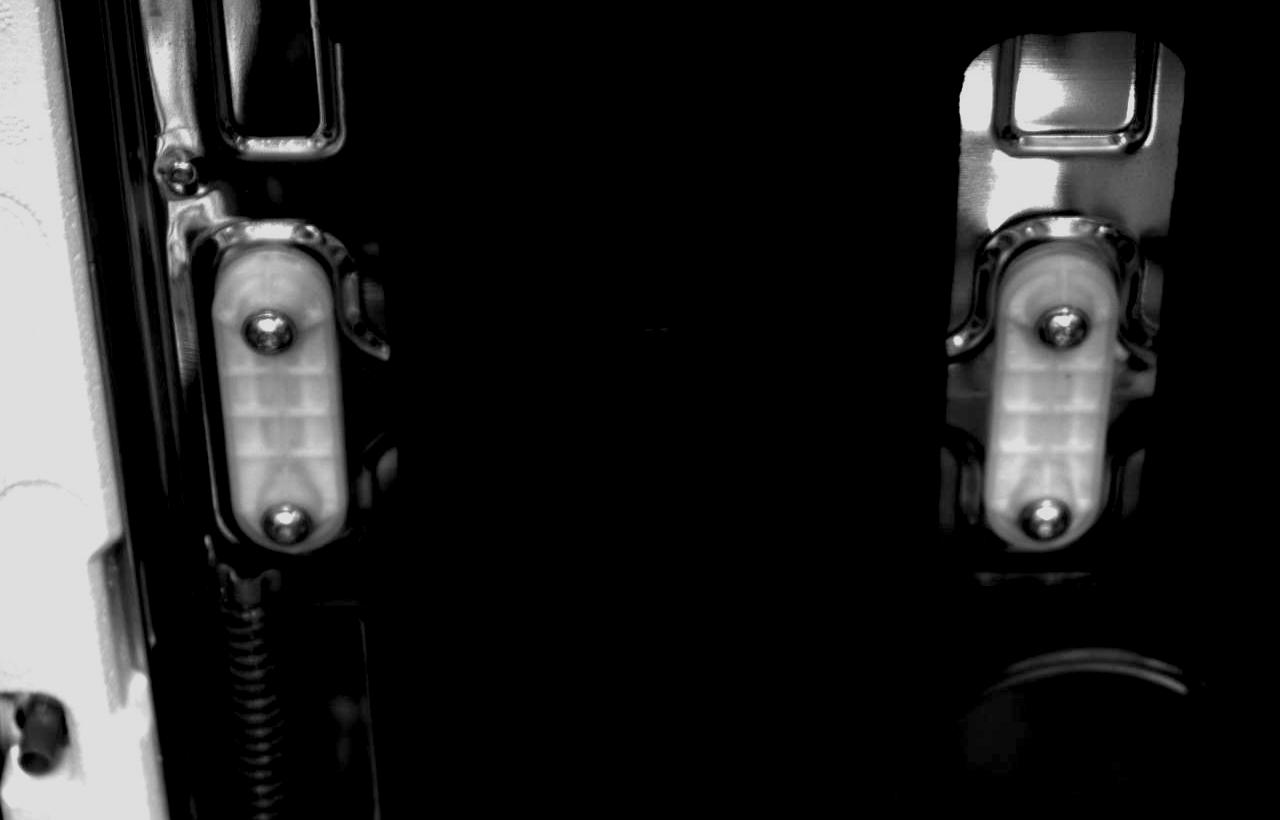vida-ok: (229, 298, 300, 365), (1017, 488, 1083, 557), (1030, 295, 1097, 362), (249, 492, 314, 551)
